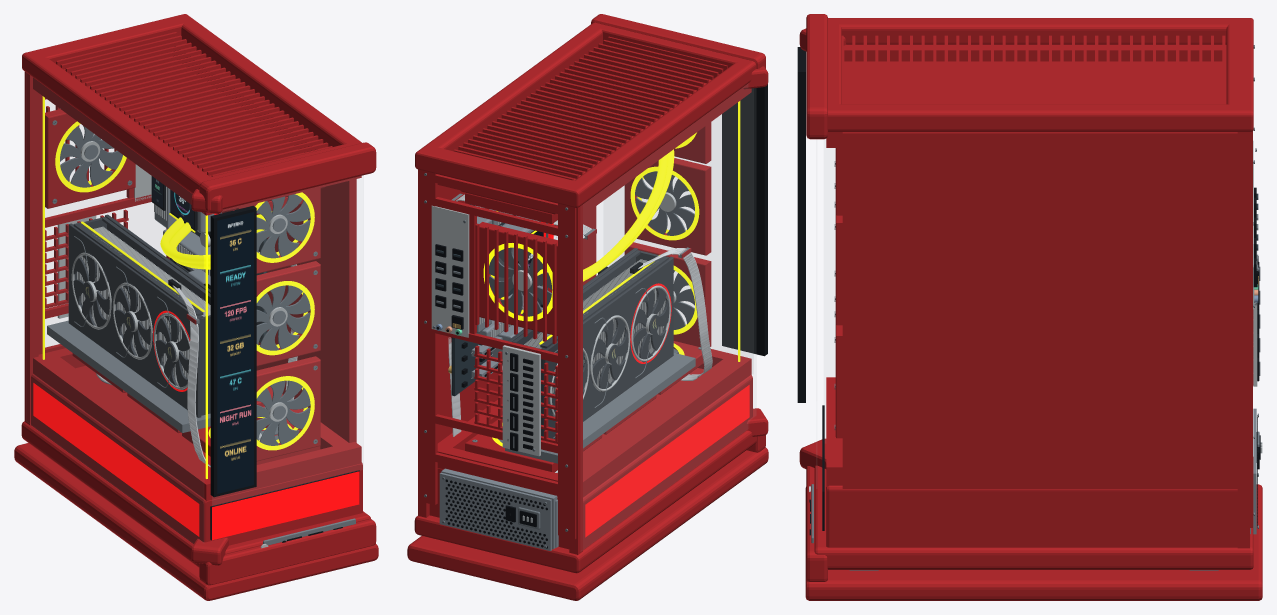
Rendered from showcase92-inferno.glb.
3 renders of one model, left to right at view 1: azimuth 30°, elevation 25°; view 2: azimuth 150°, elevation 25°; view 3: azimuth 270°, elevation 25°, orthographic. The views are drawn at different scales.
Visible parts, largest first — view 1: s83-surface-51fc9ba0-1fe5-4776-9724-dfc0da7f3cba, s83-surface-54ddc808-bf7c-4199-aeae-895a74d2a820, s83-surface-a512da68-8bdf-4b66-84d2-2f99324f5558, s83-surface-cb61b6f4-cf3e-4b9b-a66b-7c7c9251d378, s83-fan-12, s83-fan-13, s83-fan-14, s83-fan-11, s83-fan-1, s83-fan-2, s83-fan-3, s83-surface-f7f7c7cd-a846-41ff-a03b-7536405f7773; view 2: s83-surface-51fc9ba0-1fe5-4776-9724-dfc0da7f3cba, s83-surface-bcb48c46-d35c-497a-858b-b11939c96b49, s83-surface-54ddc808-bf7c-4199-aeae-895a74d2a820, s83-surface-cb61b6f4-cf3e-4b9b-a66b-7c7c9251d378, s83-fan-13, s83-fan-11, s83-fan-2, s83-fan-3, s83-fan-12; view 3: s83-surface-51fc9ba0-1fe5-4776-9724-dfc0da7f3cba.
Part boxes in pixels (<box>): s83-surface-51fc9ba0-1fe5-4776-9724-dfc0da7f3cba: <box>14,14,378,600</box>; s83-surface-54ddc808-bf7c-4199-aeae-895a74d2a820: <box>33,213,359,540</box>; s83-surface-a512da68-8bdf-4b66-84d2-2f99324f5558: <box>217,212,253,493</box>; s83-surface-cb61b6f4-cf3e-4b9b-a66b-7c7c9251d378: <box>42,96,314,478</box>; s83-fan-12: <box>256,380,310,445</box>; s83-fan-13: <box>256,285,310,350</box>; s83-fan-14: <box>256,194,310,258</box>; s83-fan-11: <box>60,126,122,187</box>; s83-fan-1: <box>73,252,111,329</box>; s83-fan-2: <box>114,282,152,359</box>; s83-fan-3: <box>155,313,189,389</box>; s83-surface-f7f7c7cd-a846-41ff-a03b-7536405f7773: <box>171,190,193,228</box>; s83-surface-51fc9ba0-1fe5-4776-9724-dfc0da7f3cba: <box>407,14,768,600</box>; s83-surface-bcb48c46-d35c-497a-858b-b11939c96b49: <box>603,88,753,374</box>; s83-surface-54ddc808-bf7c-4199-aeae-895a74d2a820: <box>541,221,749,537</box>; s83-surface-cb61b6f4-cf3e-4b9b-a66b-7c7c9251d378: <box>483,101,740,446</box>; s83-fan-13: <box>635,171,694,235</box>; s83-fan-11: <box>489,247,552,316</box>; s83-fan-2: <box>590,316,628,391</box>; s83-fan-3: <box>631,286,669,362</box>; s83-fan-12: <box>673,270,694,329</box>; s83-surface-51fc9ba0-1fe5-4776-9724-dfc0da7f3cba: <box>797,14,1262,600</box>.
Bounding box in the file's own units: 1.37 × 3 × 2.58.
24 materials, 23 textured.
